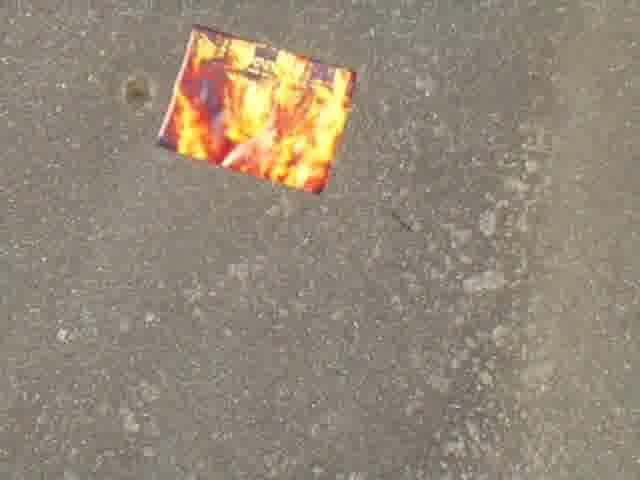fire-poster: (159, 25, 356, 196)
